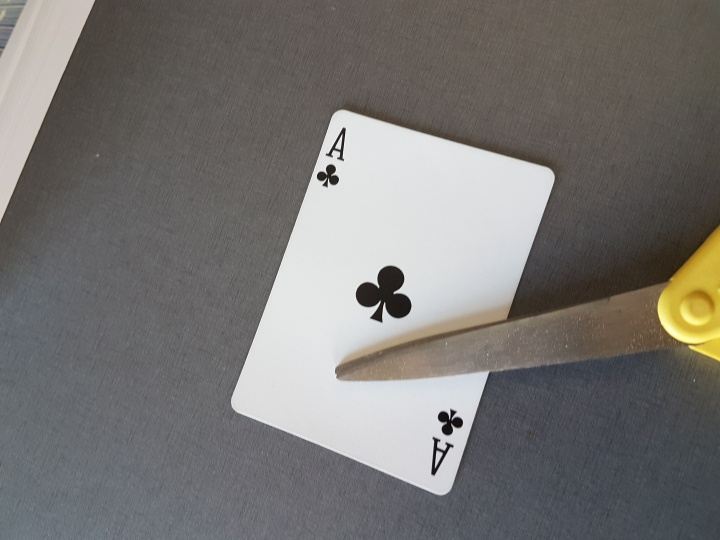ace: (231, 105, 566, 508)
